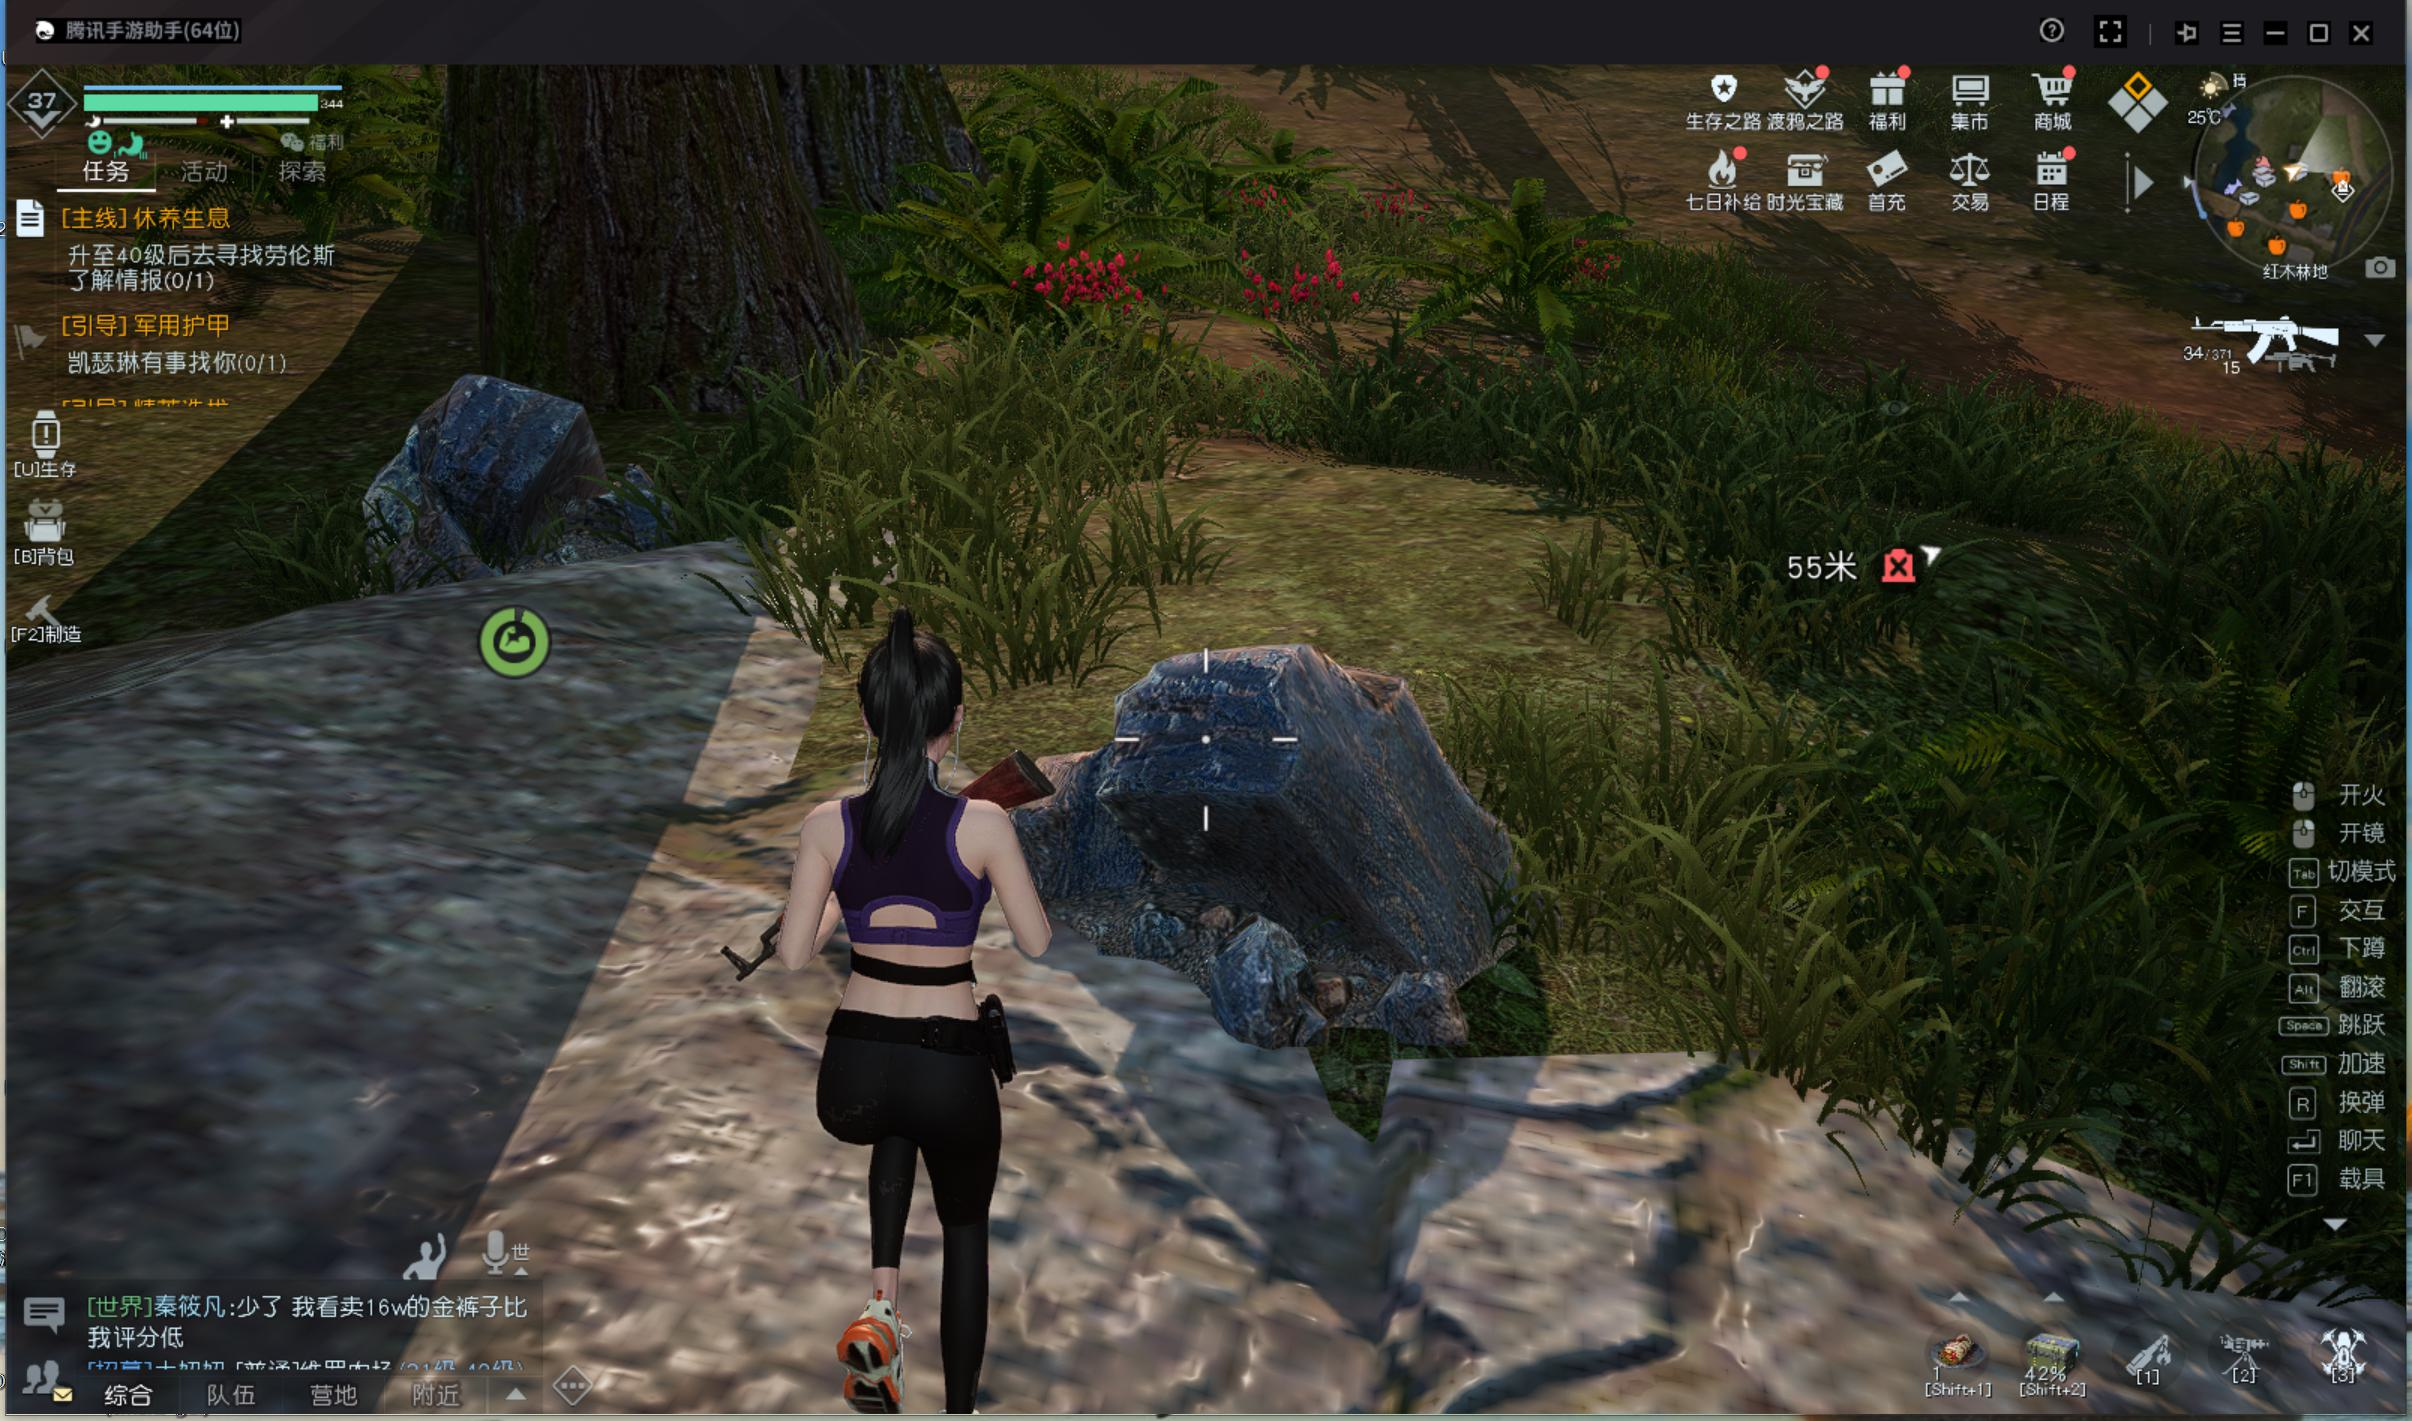stone: (1083, 590, 1573, 1067), (367, 340, 751, 614)
